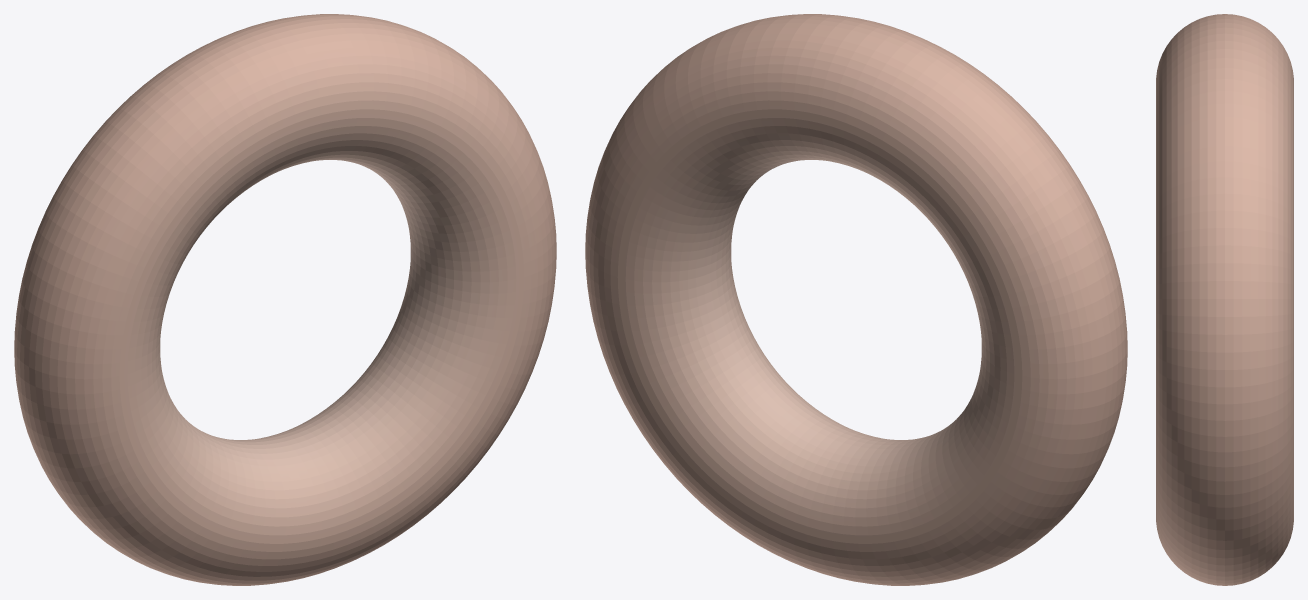
3 views of the same model, side by side, from view 1: azimuth 30°, elevation 25°; view 2: azimuth 150°, elevation 25°; view 3: azimuth 270°, elevation 25° (orthographic). The views are drawn at different scales.
Visible parts, largest first — view 1: world; view 2: world; view 3: world.
Boxes of the visible parts, x1,y1,x2,y2 form: world: (14, 14, 556, 585); world: (585, 14, 1127, 585); world: (1156, 14, 1293, 585).
Bounding box in the file's own units: 28.13 × 28.13 × 6.79.
